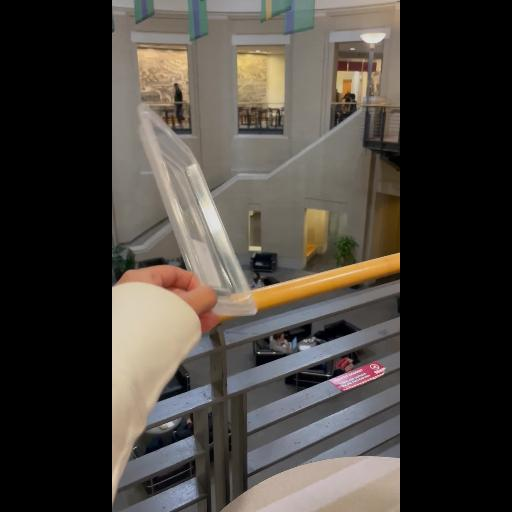rigid_plastic_lid: (128, 98, 268, 324)
